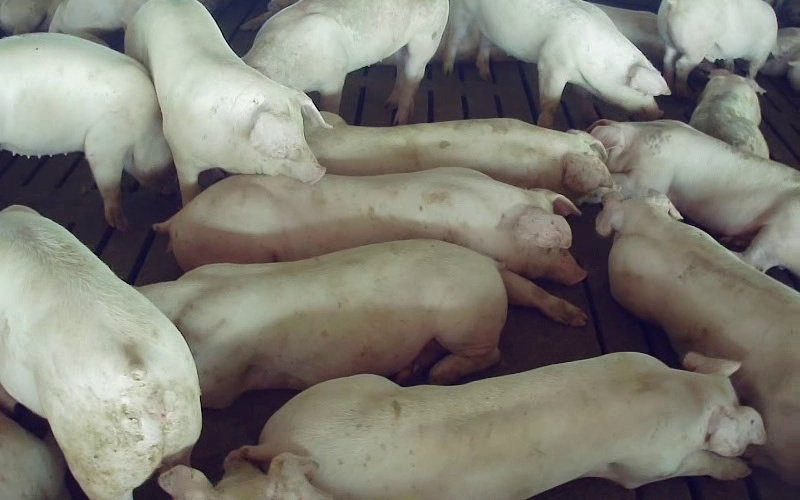pig: (239, 352, 765, 499), (157, 168, 585, 323), (139, 240, 506, 407), (596, 190, 799, 483), (125, 0, 329, 203), (590, 120, 799, 276), (445, 0, 669, 125), (306, 112, 611, 198), (243, 0, 447, 123), (658, 0, 777, 95), (689, 69, 768, 157)
